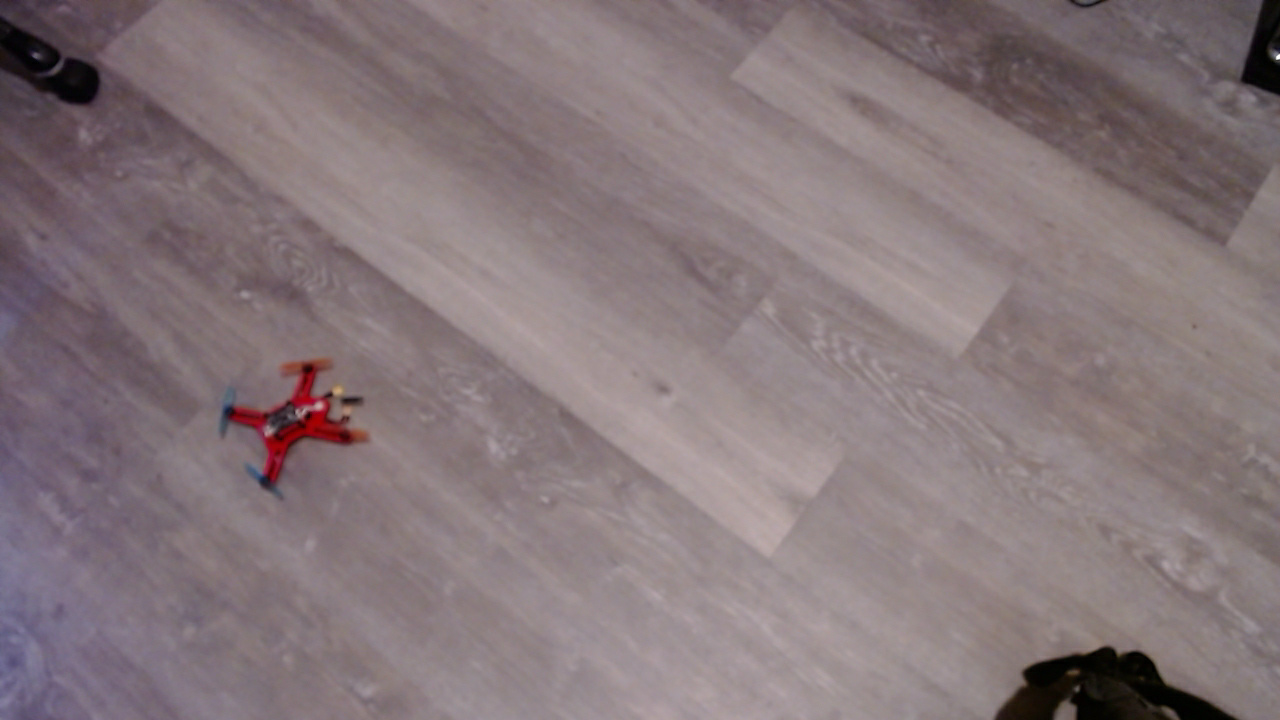crazyflie: (213, 361, 373, 518)
